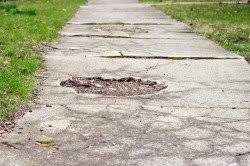pothole: (49, 69, 174, 105), (99, 49, 242, 64), (63, 28, 159, 43)
